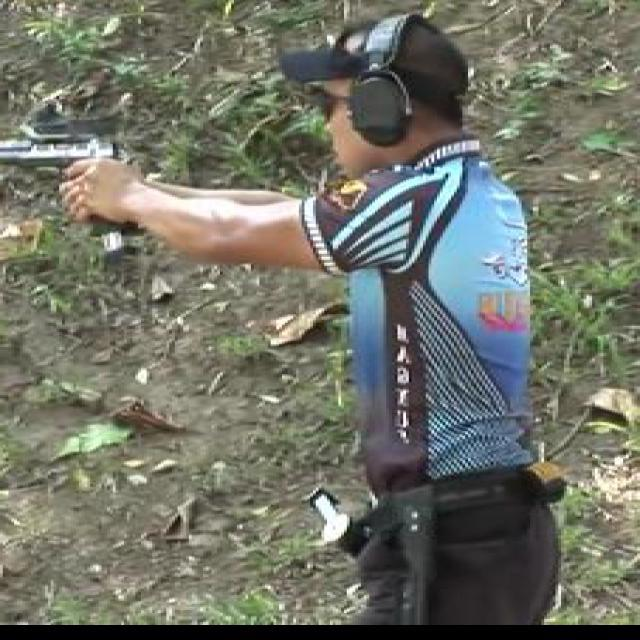Gun: (2, 128, 138, 252)
